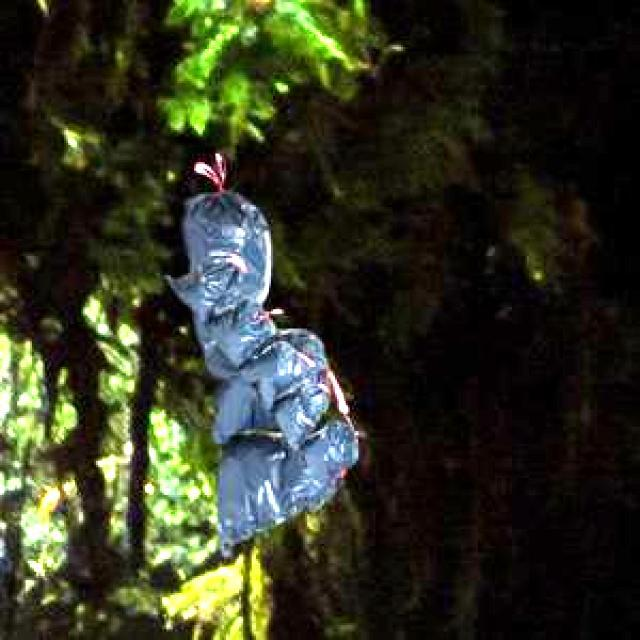Garbage_Bag: (178, 186, 342, 552), (164, 260, 354, 486)
